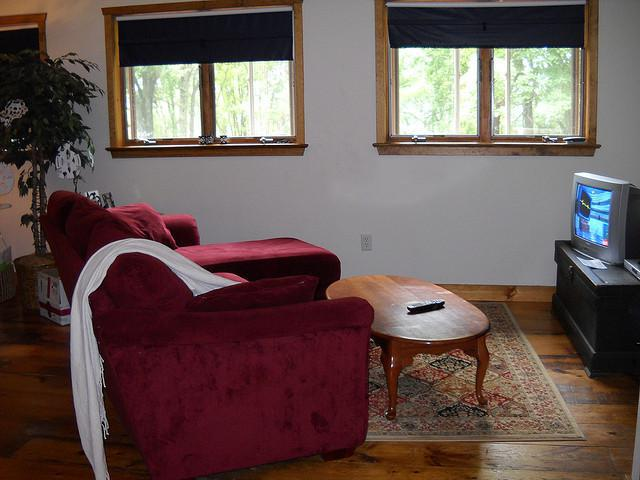tv: (562, 162, 637, 278)
